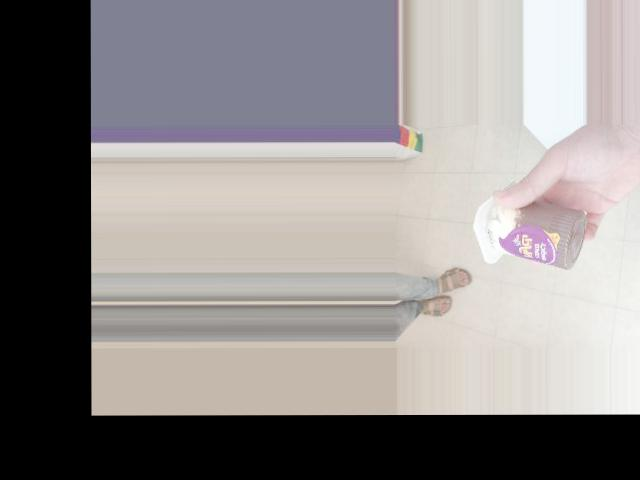milky: (478, 190, 591, 264)
